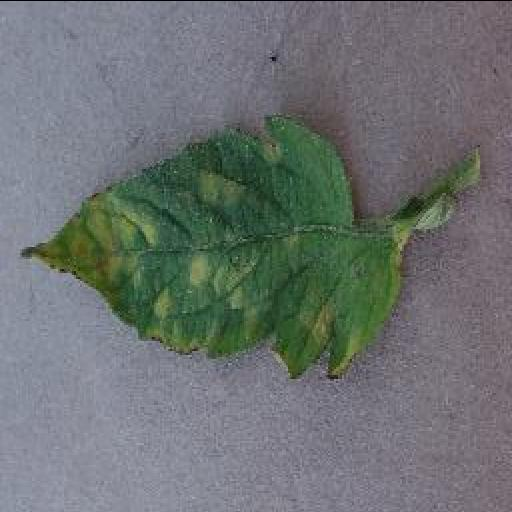disease_tomato: (20, 112, 406, 382)
